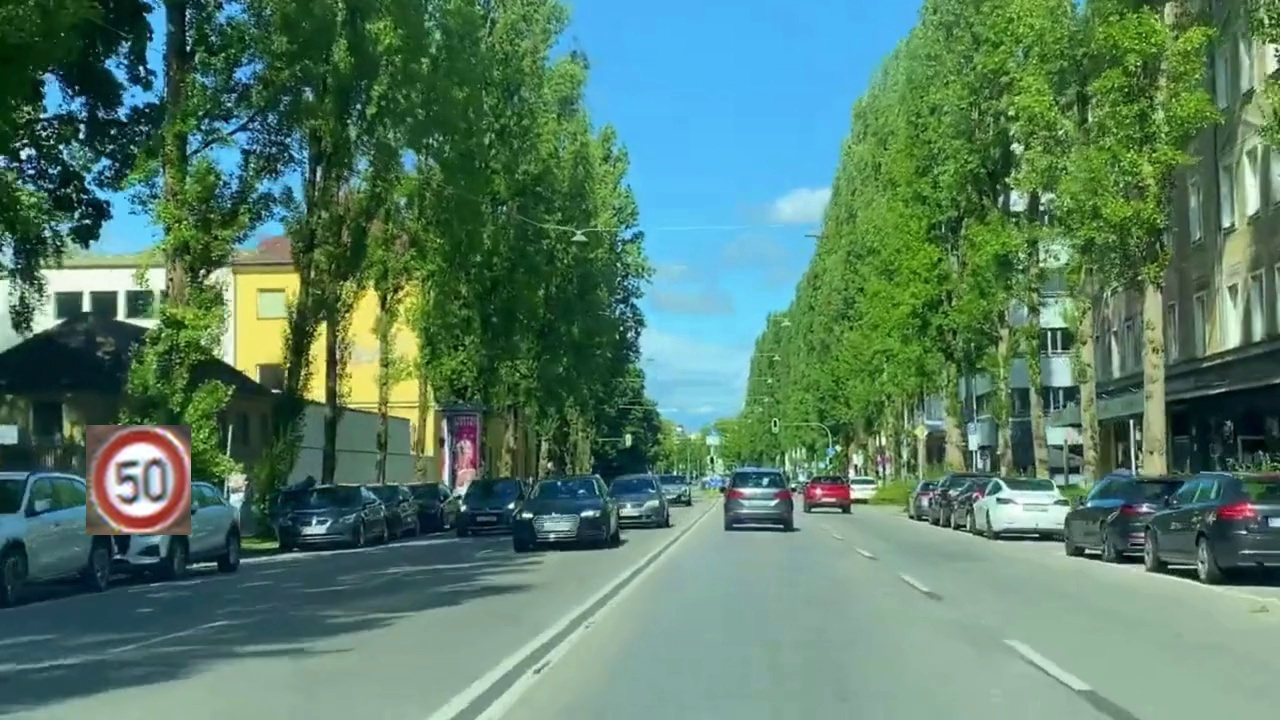Speed 50: (86, 425, 191, 535)
